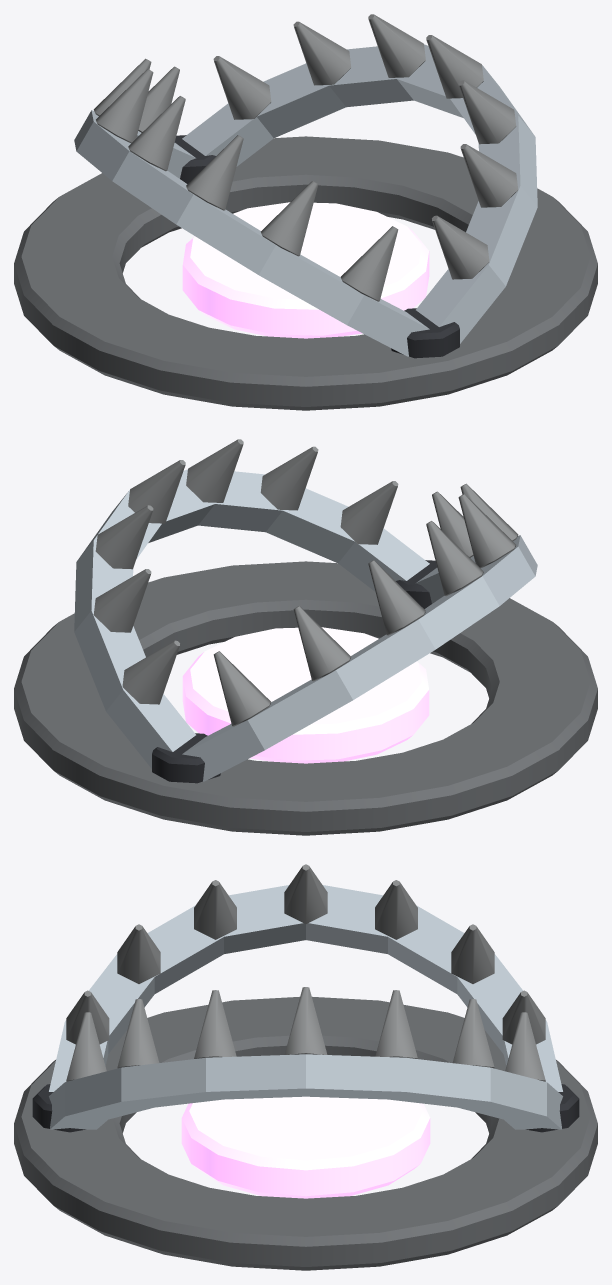
File: R4D_SnareTrap.glb
3 renders of one model, top to bottom at view 1: azimuth 30°, elevation 25°; view 2: azimuth 150°, elevation 25°; view 3: azimuth 270°, elevation 25°, orthographic.
Visible parts, largest first — view 1: R4D_SnareTrap_Body, R4D_SnareTrap_JawR, R4D_SnareTrap_JawL; view 2: R4D_SnareTrap_Body, R4D_SnareTrap_JawR, R4D_SnareTrap_JawL; view 3: R4D_SnareTrap_Body, R4D_SnareTrap_JawR, R4D_SnareTrap_JawL.
Boxes of the visible parts, <box> form: R4D_SnareTrap_Body: <box>14,135,597,410</box>; R4D_SnareTrap_JawR: <box>182,14,537,343</box>; R4D_SnareTrap_JawL: <box>74,58,429,356</box>; R4D_SnareTrap_Body: <box>14,560,597,835</box>; R4D_SnareTrap_JawR: <box>74,439,429,768</box>; R4D_SnareTrap_JawL: <box>182,483,537,781</box>; R4D_SnareTrap_Body: <box>14,996,597,1270</box>; R4D_SnareTrap_JawR: <box>49,987,562,1129</box>; R4D_SnareTrap_JawL: <box>49,864,562,1091</box>.
Size of the model in its own units: 0.47 by 0.1997 by 0.47.
